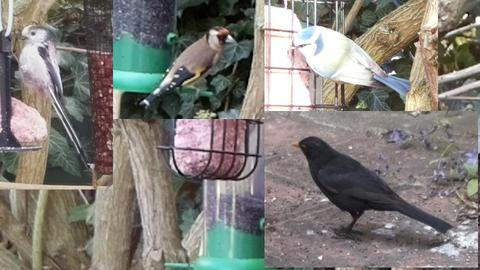blackbird: (290, 136, 453, 242)
blue tit: (290, 25, 413, 97)
goldfinch: (138, 25, 240, 113)
long tailed tit: (12, 25, 88, 164)
